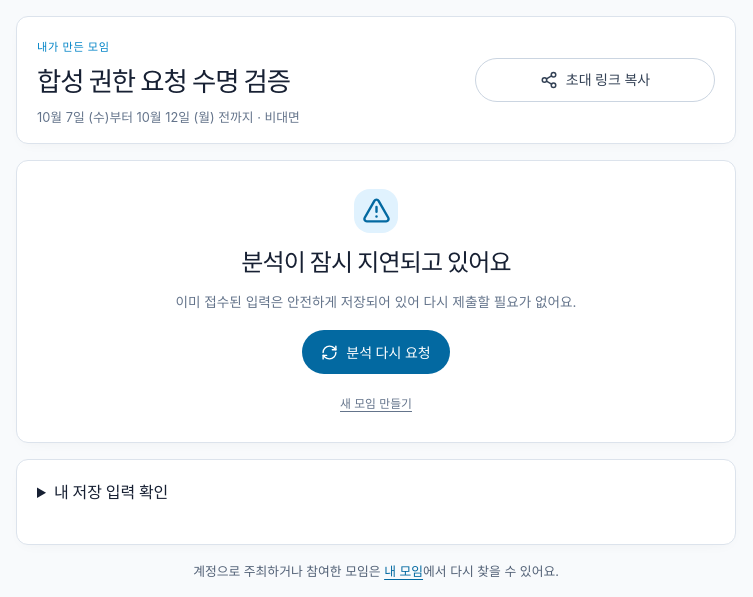
authorization responses are scoped to the request's mounted owner context › purges this room's private caches and host controls when a delayed technical retry returns 403
The image size is (753, 597).
Click the button "분석 다시 요청". click: [376, 352]
box: x1=302 y1=330 x2=450 y2=374
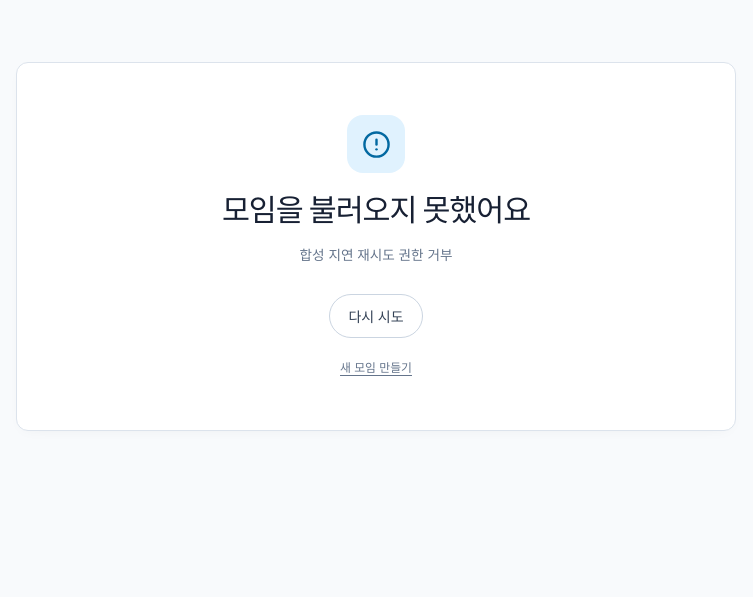
Result: the heading "모임을 불러오지 못했어요" is shown at x1=222 y1=192 x2=530 y2=228
Result: the button "분석 다시 요청" is gone
